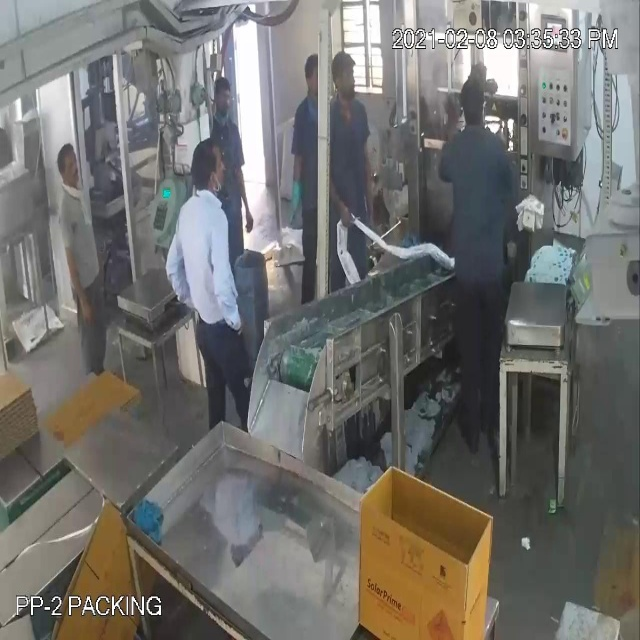Guantes: (284, 154, 307, 237)
Sin_guantes: (211, 224, 250, 348), (62, 229, 101, 347), (166, 215, 199, 329), (234, 148, 255, 237), (358, 142, 379, 228)
